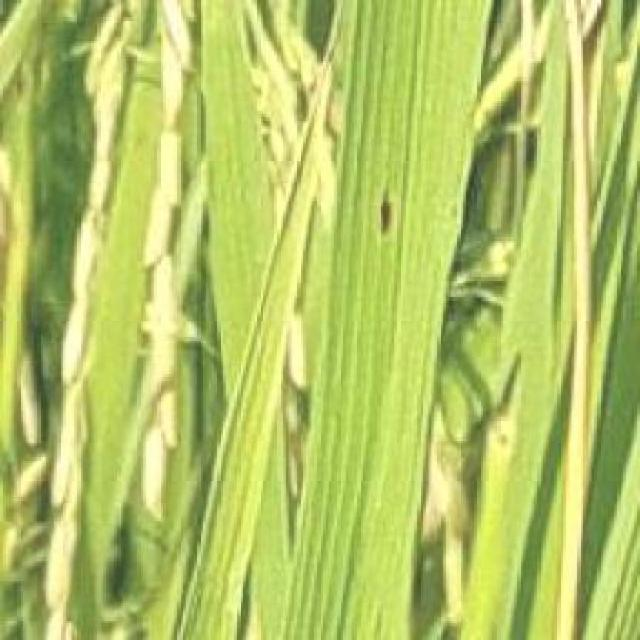Leaf_Blast: (361, 174, 408, 243)
